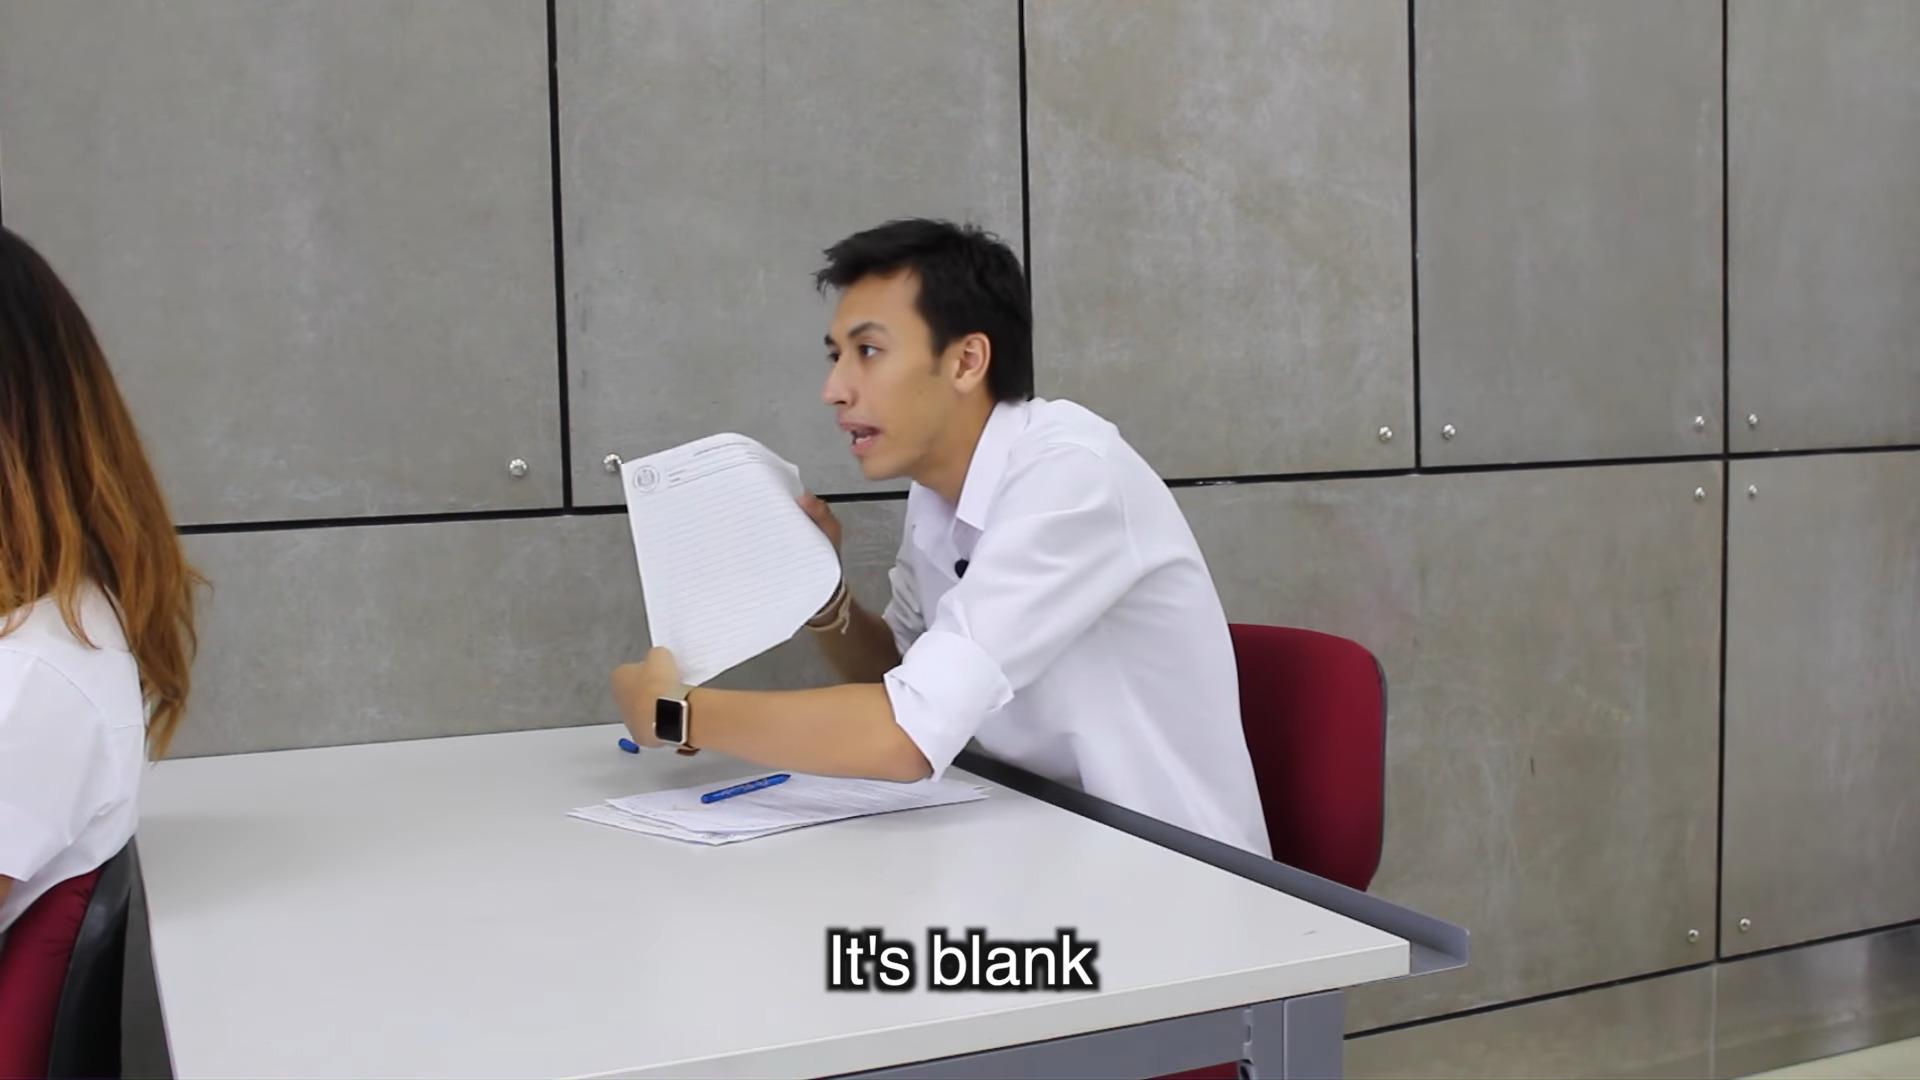cheating: (524, 170, 1311, 910)
